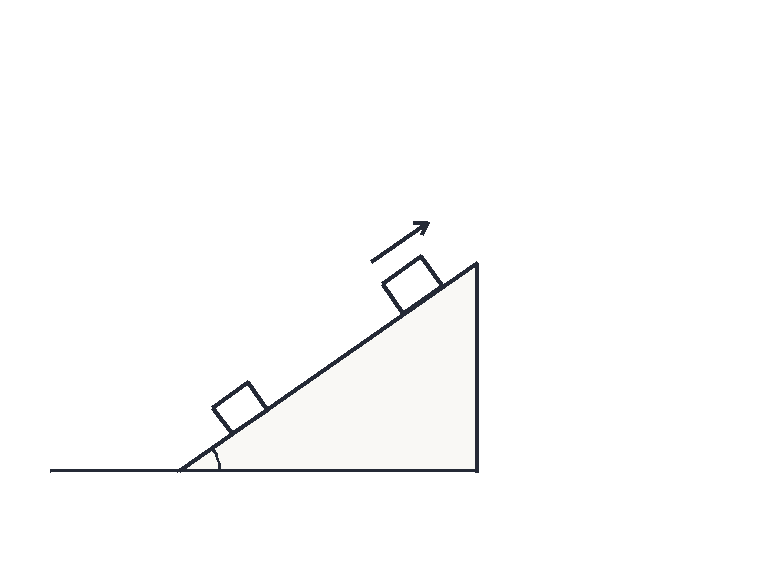block: (380, 254, 444, 316), (210, 380, 269, 436)
ramp: (177, 260, 478, 472)
